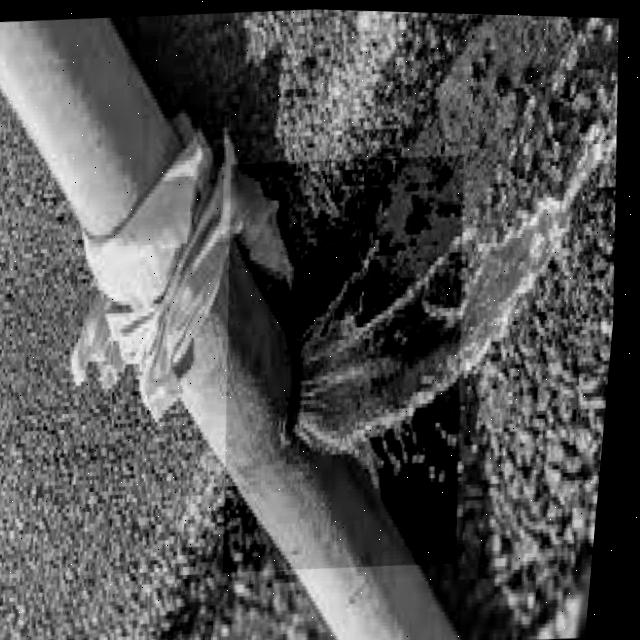corrosion: (202, 218, 523, 574)
